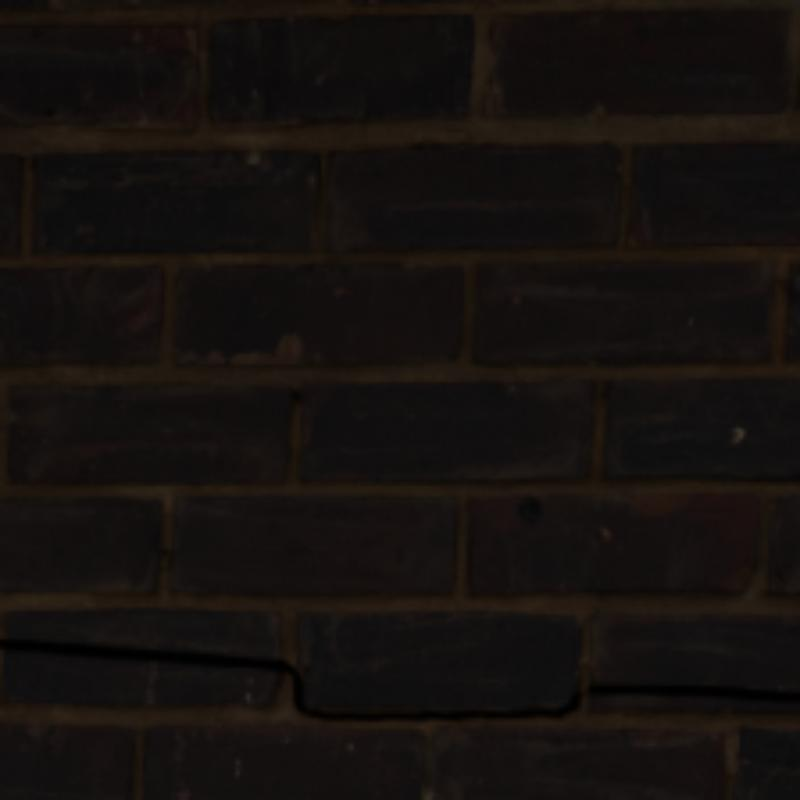pothole: (0, 639, 796, 718)
